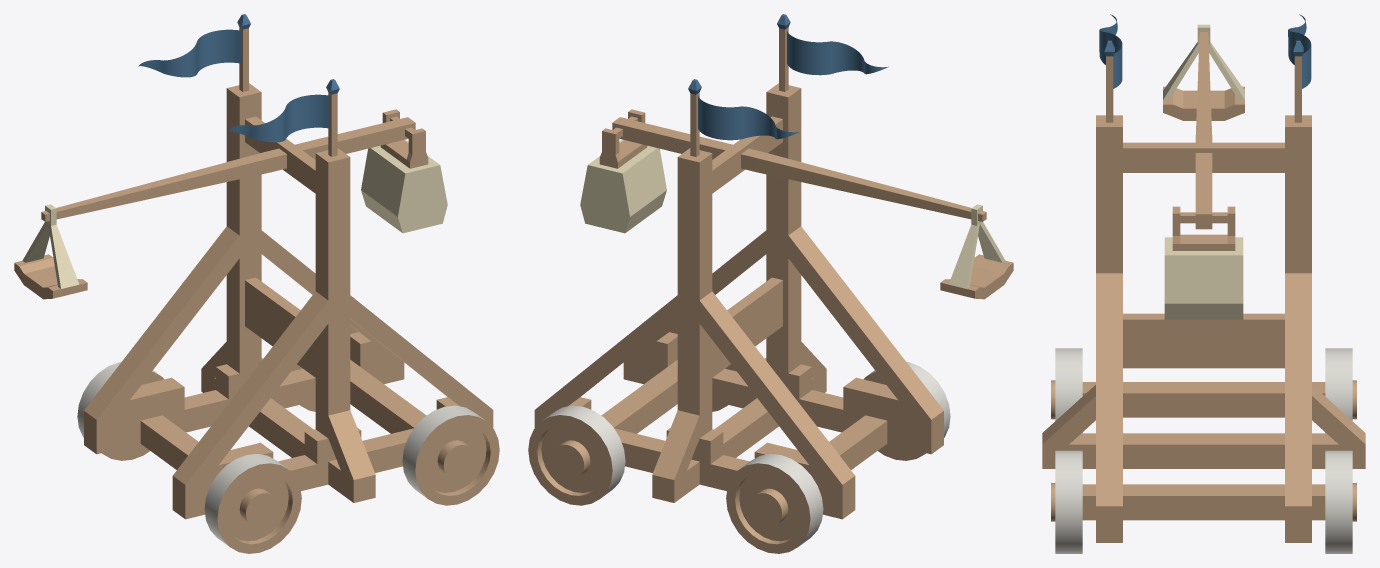
The model's file is siegeTrebuchet.fbx.
3 renders of one model, left to right at view 1: azimuth 30°, elevation 25°; view 2: azimuth 150°, elevation 25°; view 3: azimuth 270°, elevation 25°, orthographic. The views are drawn at different scales.
Parts seen in each view (by area): view 1: body 4, wheelFrontRight 9, wheelBackRight 7, weight 1, trebuchet 1, catapult 3, flag 16, flag 17, wheelBackLeft 7; view 2: body 4, wheelFrontLeft 9, wheelBackLeft 7, weight 1, trebuchet 1, catapult 3, flag 17, flag 16, wheelBackRight 7; view 3: body 4, weight 1, catapult 3, wheelFrontLeft 9, wheelFrontRight 9, trebuchet 1, wheelBackLeft 7, wheelBackRight 7, flag 17, flag 16.
Part boxes in pixels (bbox=[...]): body 4: bbox=[84, 83, 493, 519]; wheelFrontRight 9: bbox=[402, 405, 499, 505]; wheelBackRight 7: bbox=[204, 454, 301, 553]; weight 1: bbox=[361, 109, 447, 233]; trebuchet 1: bbox=[41, 117, 415, 221]; catapult 3: bbox=[14, 204, 87, 299]; flag 16: bbox=[227, 79, 339, 156]; flag 17: bbox=[138, 14, 250, 91]; wheelBackLeft 7: bbox=[77, 361, 164, 460]; body 4: bbox=[534, 83, 943, 519]; wheelFrontLeft 9: bbox=[528, 405, 625, 505]; wheelBackLeft 7: bbox=[726, 454, 823, 553]; weight 1: bbox=[580, 109, 666, 233]; trebuchet 1: bbox=[612, 117, 986, 221]; catapult 3: bbox=[940, 204, 1013, 299]; flag 17: bbox=[688, 79, 800, 156]; flag 16: bbox=[777, 14, 888, 91]; wheelBackRight 7: bbox=[863, 361, 950, 460]; body 4: bbox=[1042, 115, 1365, 542]; weight 1: bbox=[1164, 206, 1243, 319]; catapult 3: bbox=[1163, 24, 1244, 120]; wheelFrontLeft 9: bbox=[1325, 450, 1356, 553]; wheelFrontRight 9: bbox=[1051, 450, 1082, 553]; trebuchet 1: bbox=[1195, 32, 1212, 229]; wheelBackLeft 7: bbox=[1325, 348, 1356, 433]; wheelBackRight 7: bbox=[1051, 348, 1082, 433]; flag 17: bbox=[1288, 14, 1311, 122]; flag 16: bbox=[1099, 14, 1122, 122].
Size of the model in its own units: 19.5 by 19.59 by 12.58.
